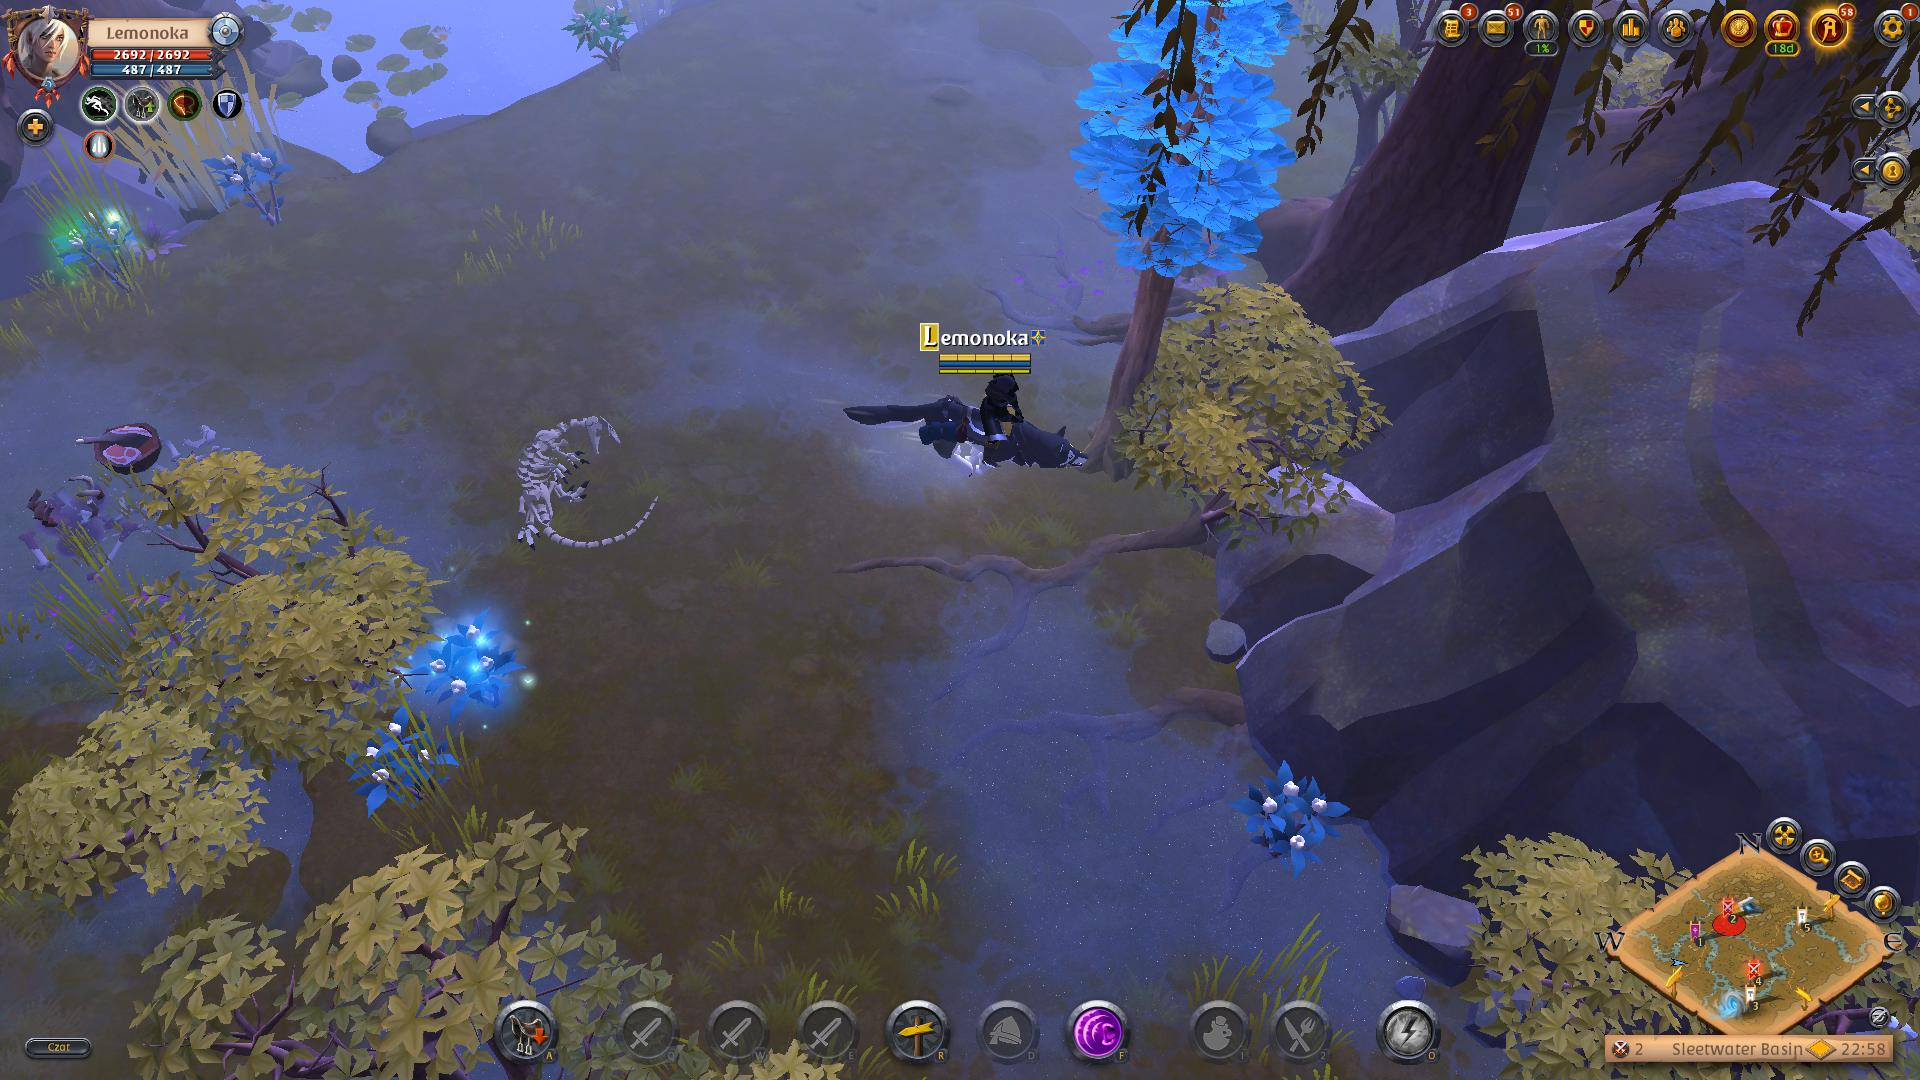fiber tier 3: (567, 4, 637, 74)
fiber tier 4: (1237, 757, 1345, 877), (411, 613, 525, 715), (208, 141, 297, 227)
wood tier 3: (1073, 0, 1305, 290)
